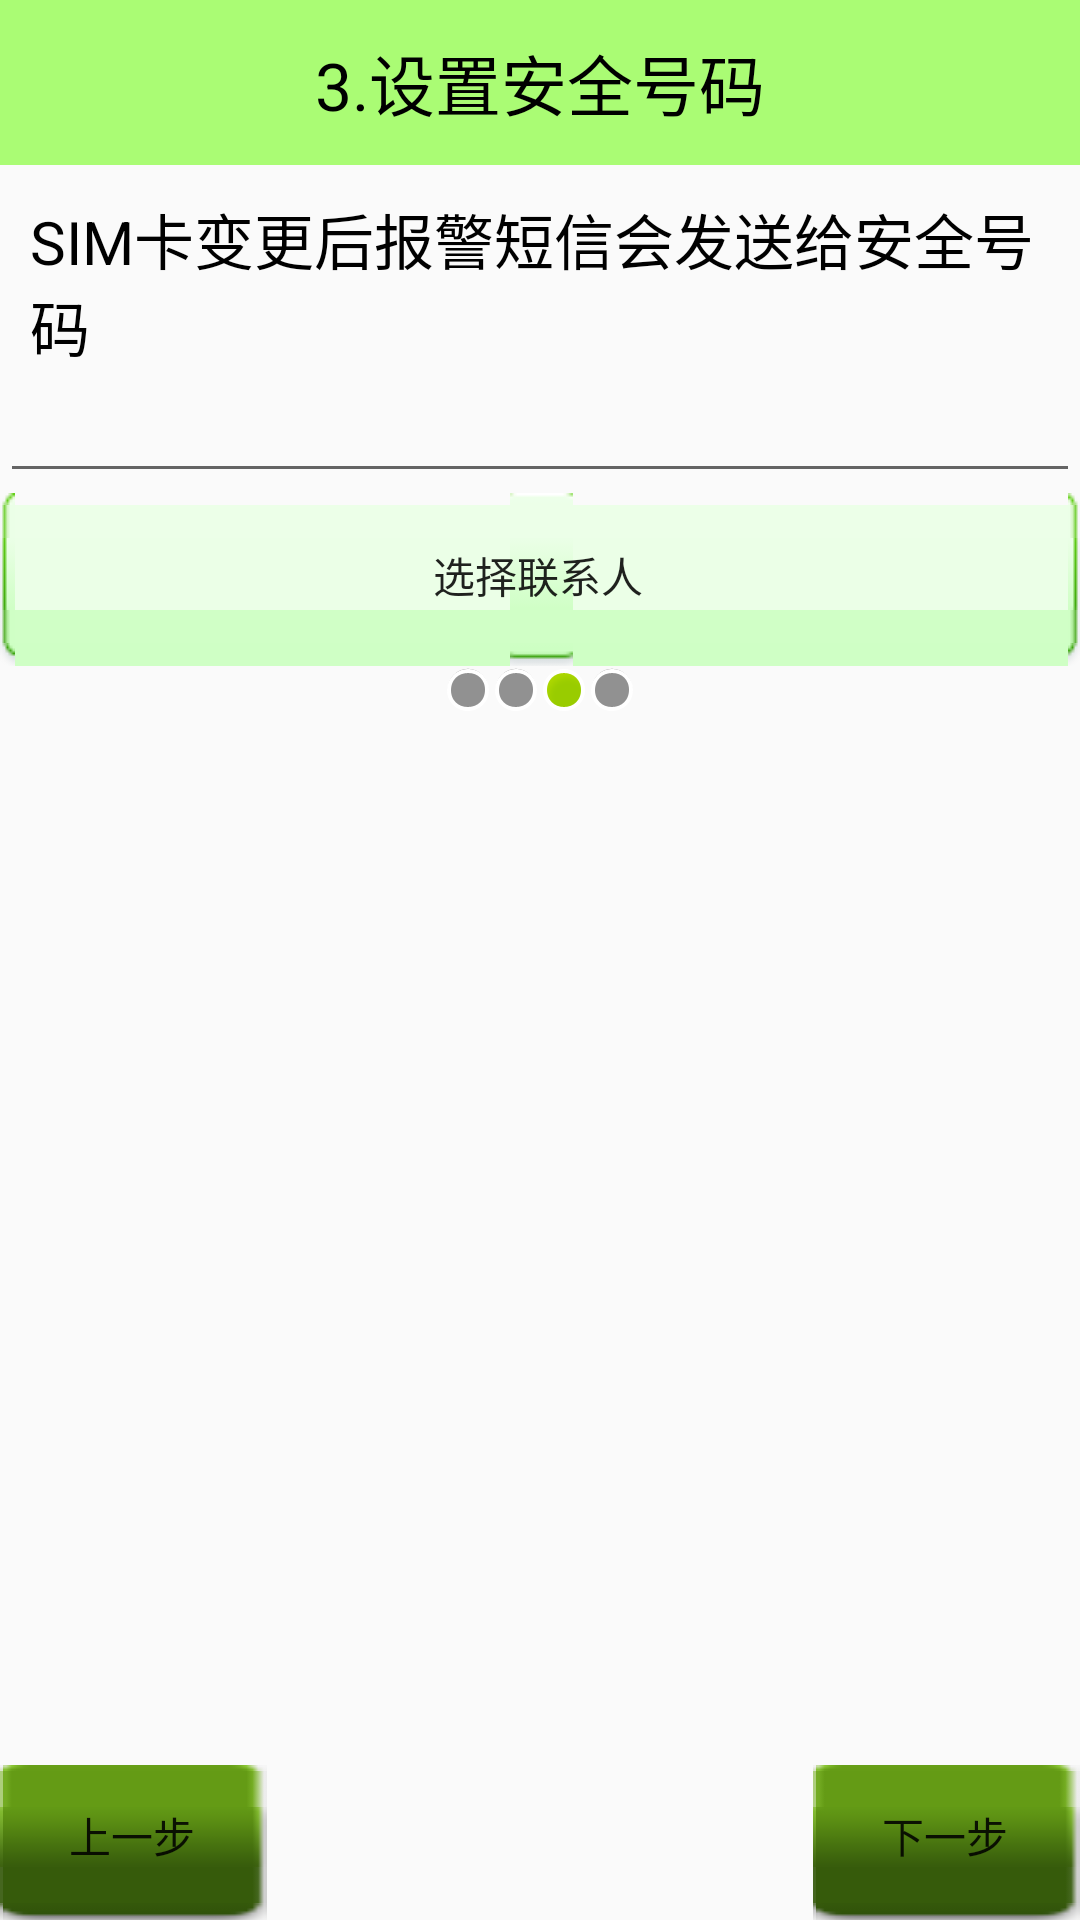

Screen size 1080w x 1920h. Icon name, then its box in pixels as (x1, y1, x2, y2):
presence invisible: (451, 669, 485, 707), (499, 669, 533, 707), (595, 669, 629, 707)
presence online: (547, 673, 581, 707)
